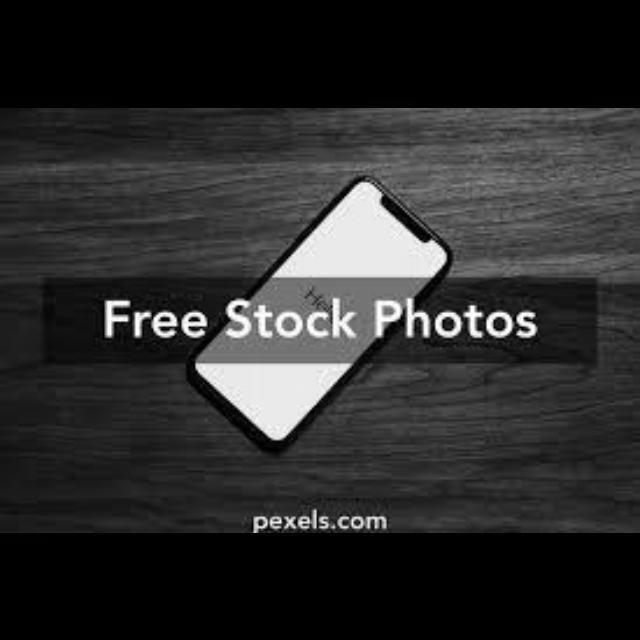fake: (149, 164, 460, 444)
